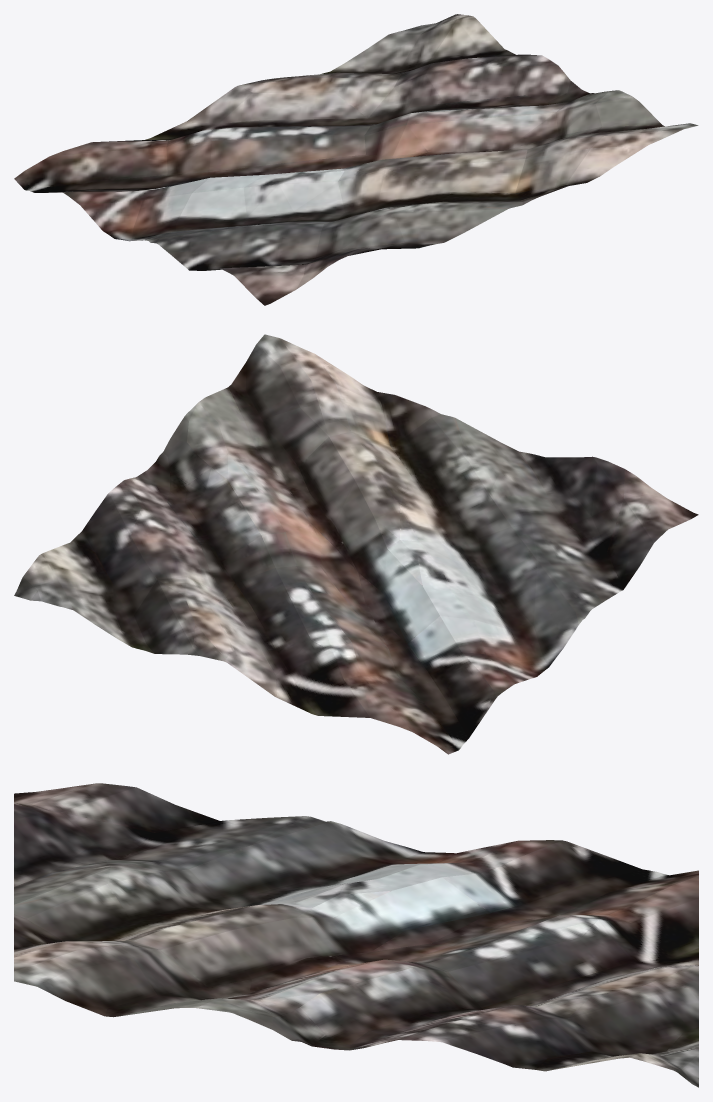
The picture shows the model from 3 angles, top to bottom: view 1: azimuth 30°, elevation 25°; view 2: azimuth 150°, elevation 25°; view 3: azimuth 270°, elevation 25°; orthographic projection. The views are drawn at different scales.
Bounding box in the file's own units: 0.8374 × 0.2475 × 0.8373.
2 materials, 2 textured.
